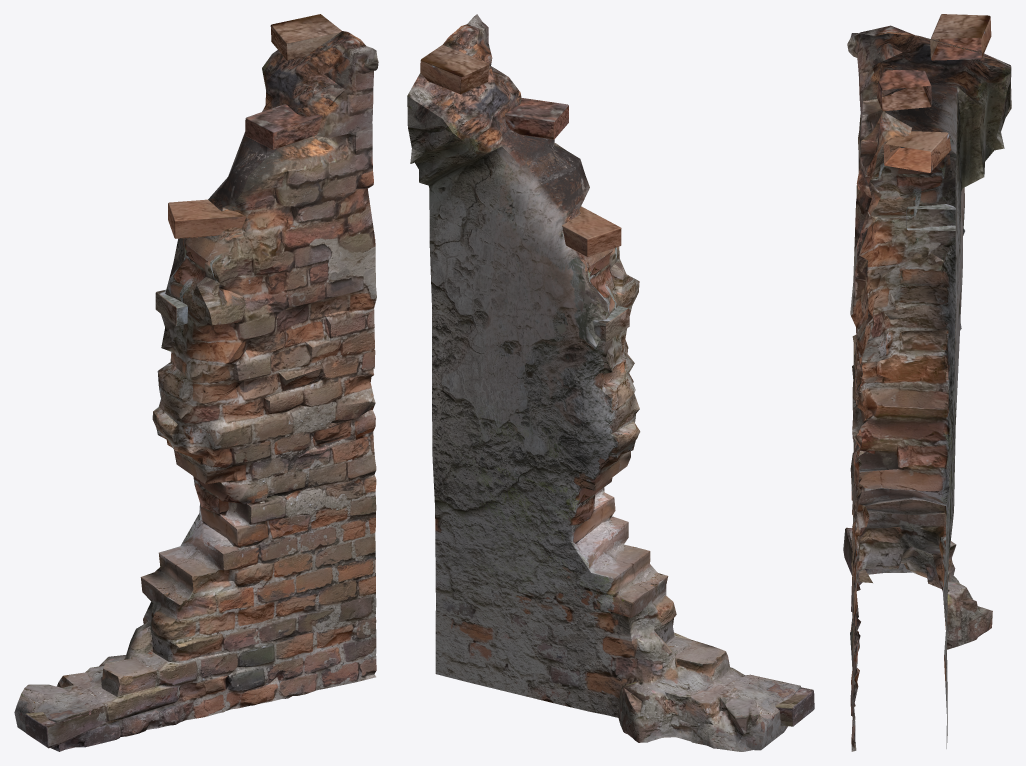
The model's file is SM_ChapelWall_02_10.fbx.
3 views of the same model, side by side, from view 1: azimuth 30°, elevation 25°; view 2: azimuth 150°, elevation 25°; view 3: azimuth 270°, elevation 25° (orthographic). The views are drawn at different scales.
Visible parts, largest first — view 1: sm_ChapelWall_02_10_LOD0; view 2: sm_ChapelWall_02_10_LOD0; view 3: sm_ChapelWall_02_10_LOD0.
Part boxes in pixels (bbox=[...]): sm_ChapelWall_02_10_LOD0: bbox=[14, 14, 378, 751]; sm_ChapelWall_02_10_LOD0: bbox=[407, 14, 814, 751]; sm_ChapelWall_02_10_LOD0: bbox=[843, 14, 1011, 751].
Size of the model in its own units: 58.97 by 155 by 278.
